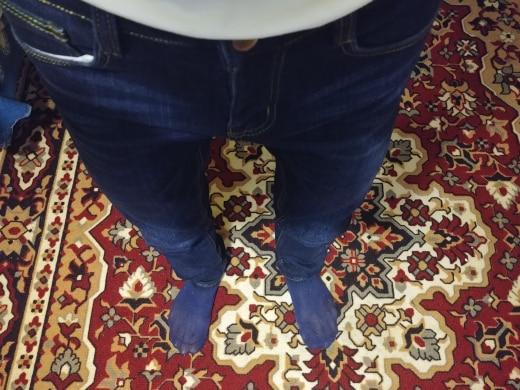jeans: (5, 1, 442, 297)
